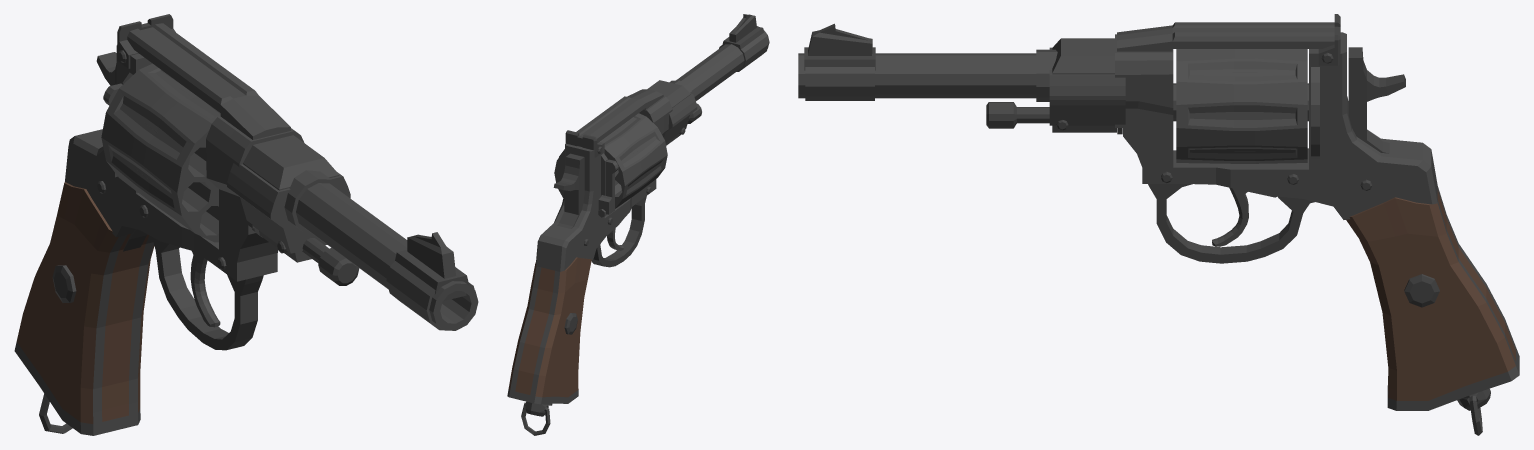
Rendered from revolver.fbx.
3 views of the same model, side by side, from view 1: azimuth 30°, elevation 25°; view 2: azimuth 150°, elevation 25°; view 3: azimuth 270°, elevation 25° (orthographic). The views are drawn at different scales.
Visible parts, largest first — view 1: revolver; view 2: revolver; view 3: revolver.
Part boxes in pixels (<box>): revolver: <box>14,14,478,435</box>; revolver: <box>507,14,769,435</box>; revolver: <box>798,14,1519,435</box>.
Bounding box in the file's own units: 4.28 × 15.8 × 25.16.
